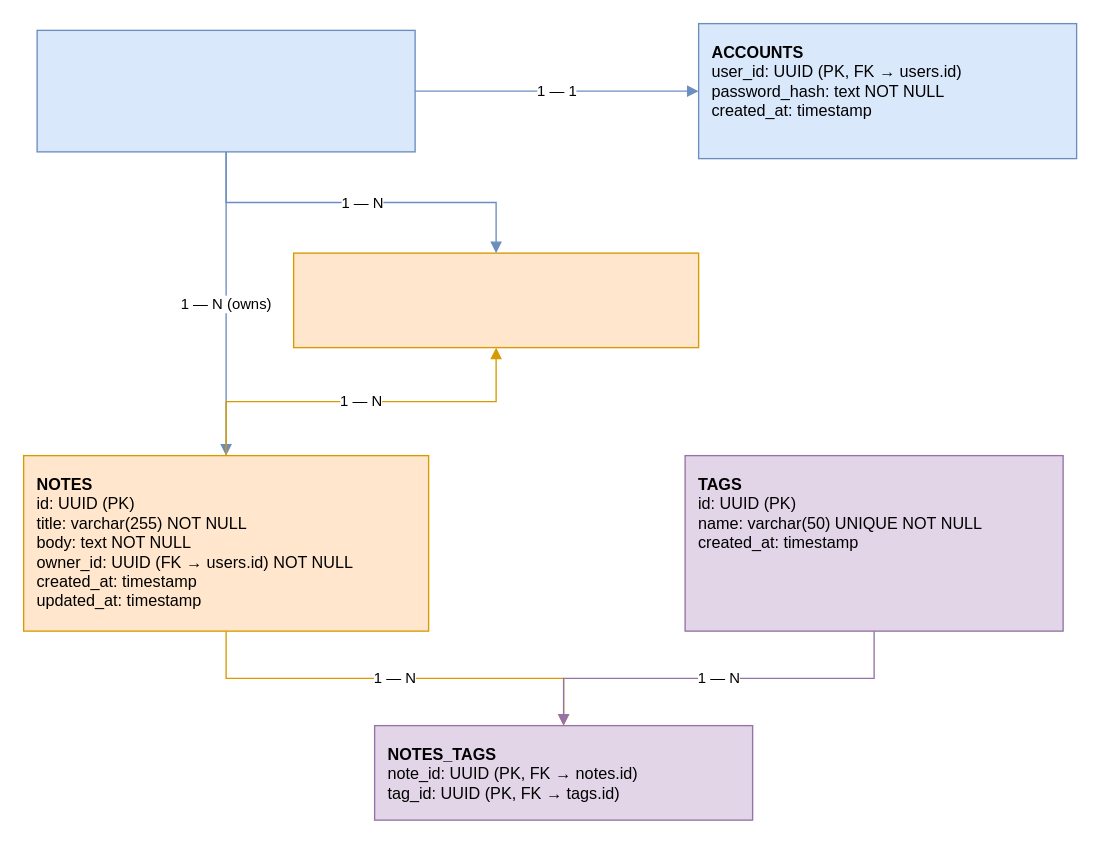
Image size: 1100x844. Some labels were removed from this diagram. Here are the shapes that lost their labels. From the top down, the box of each, then its label:
(36, 29, 415, 152): USERS id: UUID (PK) username: varchar(50) UNIQUE NOT NULL created_at: timestamp
(292, 252, 699, 348): NOTES_SHARED note_id: UUID (PK, FK → notes.id) user_id: UUID (PK, FK → users.id)
